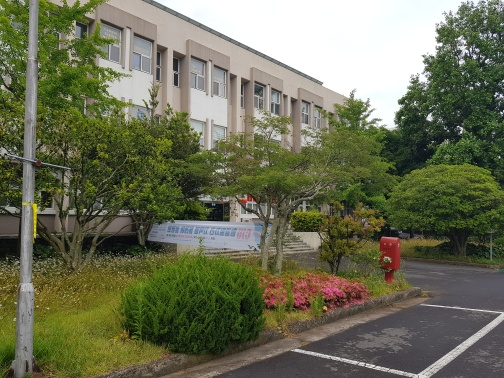Main Building of University: (63, 6, 356, 265)
